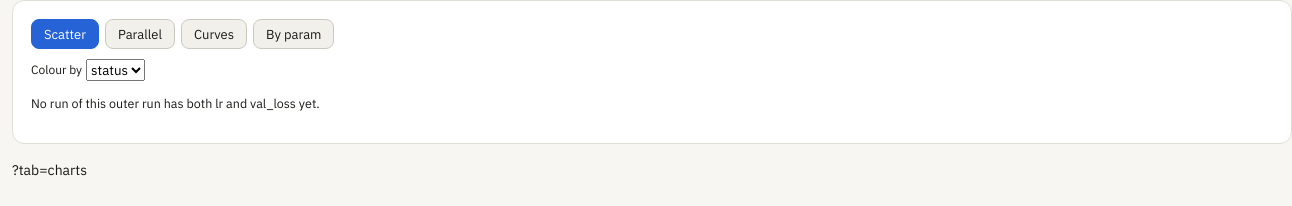
Test: the job Charts tab › says why a chart is empty, and shows a failed load
Expected: the text "No run of this outer run has both lr and val_loss yet." is shown, [31,94,320,110]
What coordinates should you click on to do the following:
click the button "By param"
I would click on:
 (294, 34)
Its box is [253,19,334,49].
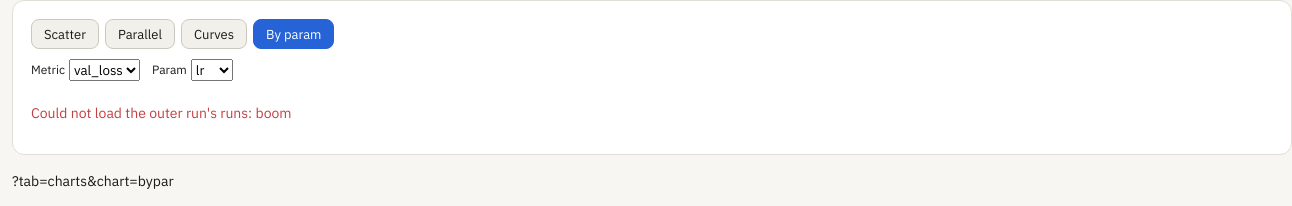
Expected: the message shows "boom", [256,104,292,122]
